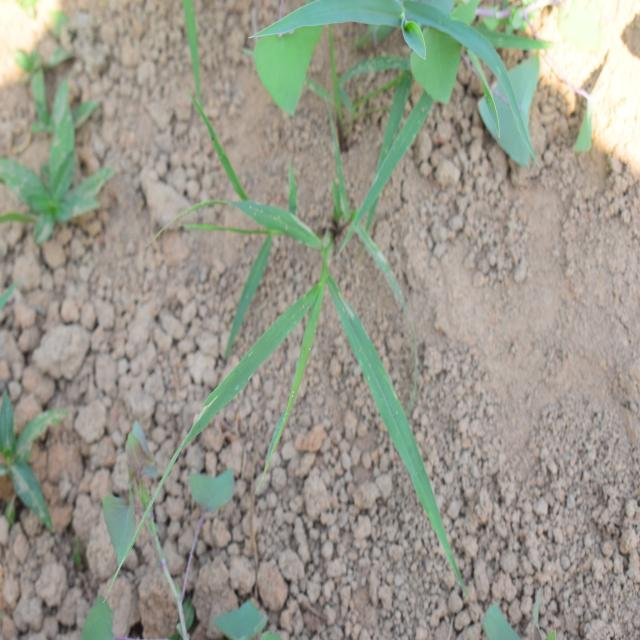green_foxtail: (186, 119, 426, 462)
